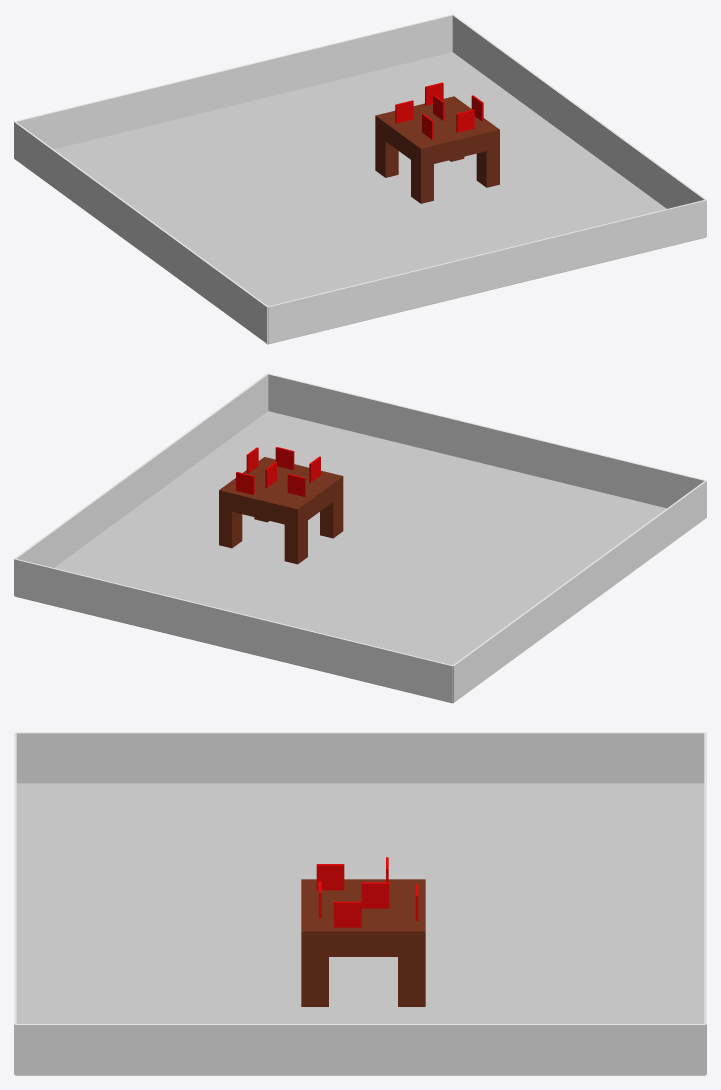
3 renders of one model, top to bottom at view 1: azimuth 30°, elevation 25°; view 2: azimuth 150°, elevation 25°; view 3: azimuth 270°, elevation 25°, orthographic. The views are drawn at different scales.
Visible parts, largest first — view 1: _dummylink0_ (×5), base (×4); view 2: _dummylink0_ (×5), base (×4); view 3: _dummylink0_ (×5), base (×6).
Boxes of the visible parts, x1=… form: _dummylink0_ (×5): x1=14, y1=14, x2=706, y2=344; base (×4): x1=375, y1=96, x2=499, y2=203; _dummylink0_ (×5): x1=14, y1=373, x2=706, y2=703; base (×4): x1=219, y1=457, x2=343, y2=564; _dummylink0_ (×5): x1=14, y1=732, x2=706, y2=1075; base (×6): x1=301, y1=864, x2=425, y2=1006.
Size of the model in its own units: 5.02 by 5.02 by 0.8209.
